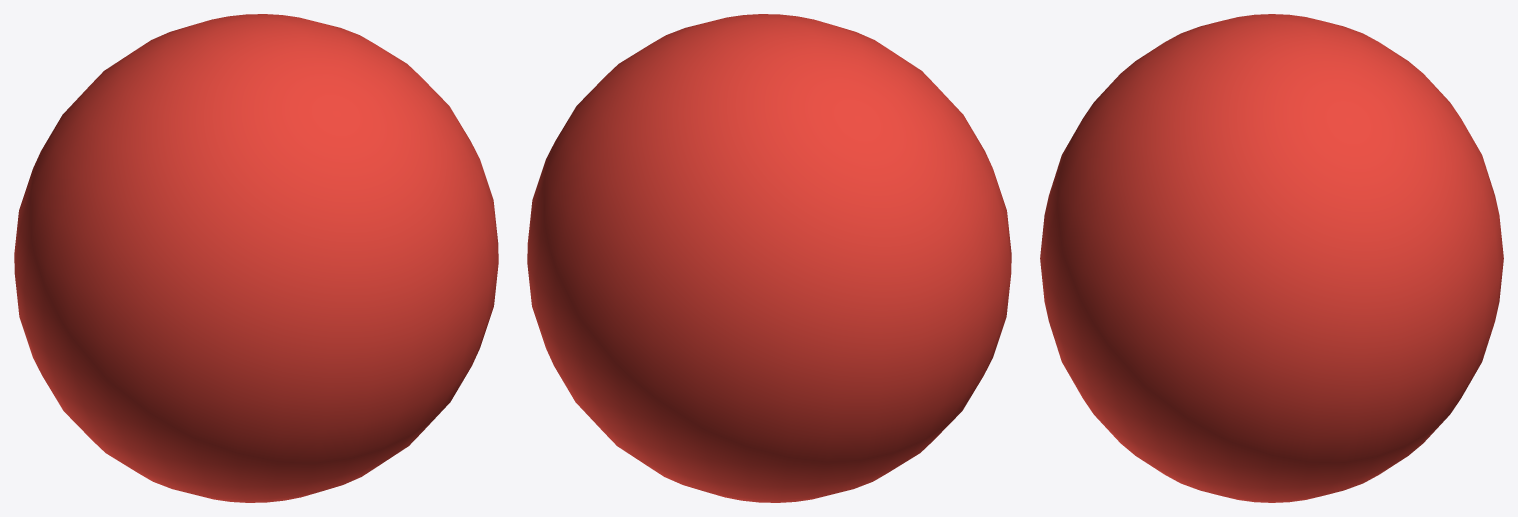
File: TESTI OMENA.fbx
3 views of the same model, side by side, from view 1: azimuth 30°, elevation 25°; view 2: azimuth 150°, elevation 25°; view 3: azimuth 270°, elevation 25° (orthographic).
Parts seen in each view (by area): view 1: Sphere; view 2: Sphere; view 3: Sphere.
Part boxes in pixels (x1,y1,x2,y2): Sphere: (14,14,498,502); Sphere: (527,14,1011,502); Sphere: (1040,14,1503,502).
Size of the model in its own units: 1.22 by 1.22 by 1.15.
